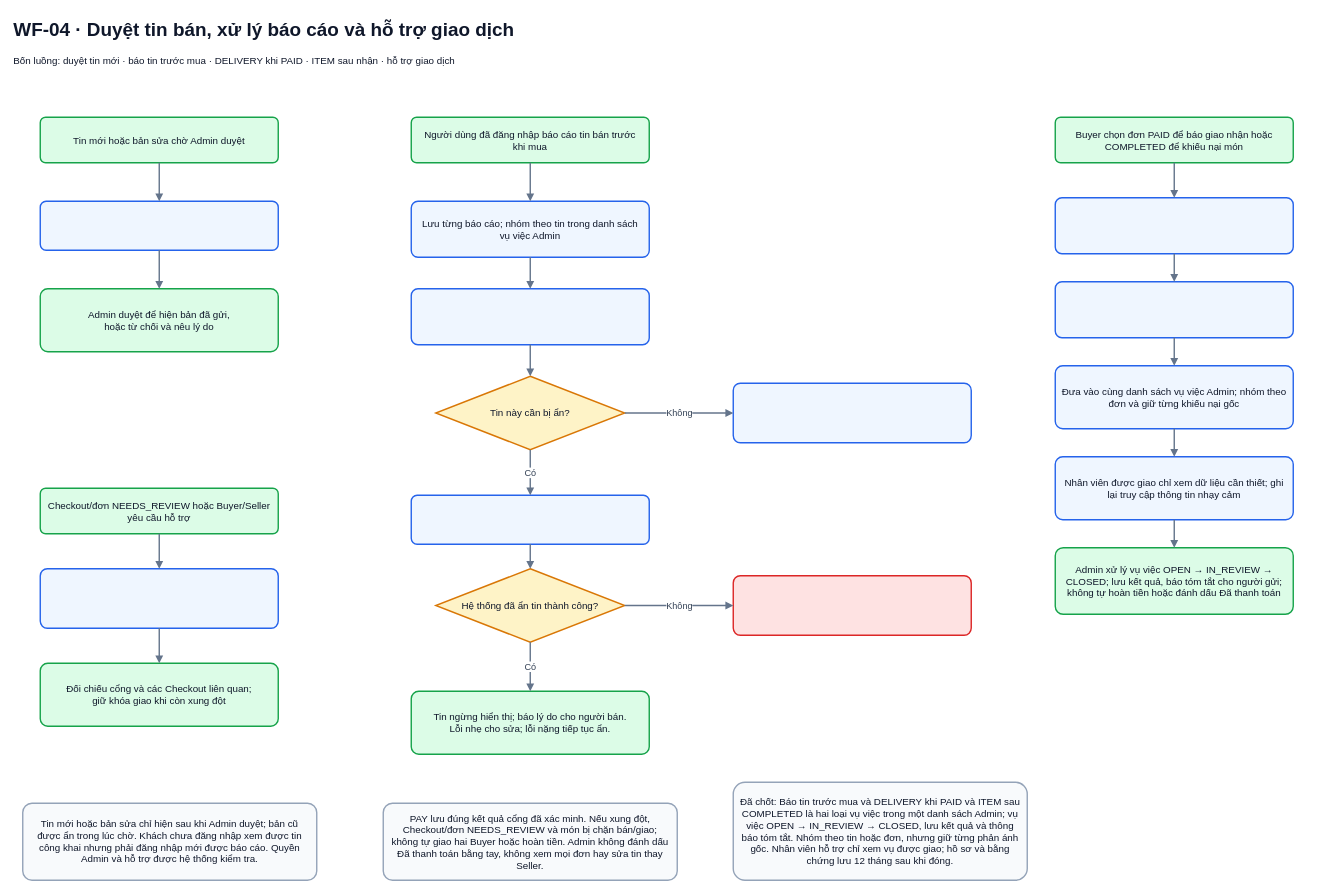
Some shapes in this 1319 by 893 pixel diagram are drawn without their labels. Each missing label, with the box of its shape:
Admin xem tin, lý do và lịch sử rồi quyết định: (410, 288, 650, 345)
Admin xem đúng bản người bán đã gửi: (39, 200, 279, 251)
Admin yêu cầu hệ thống ẩn tin: (410, 494, 650, 545)
Chọn loại/lý do; ITEM chọn món bị ảnh hưởng; gửi bằng chứng: (1054, 197, 1294, 254)
Hệ thống gắn với orderId; ITEM lưu affectedOrderItemIds và snapshot món: (1054, 281, 1294, 338)
Không ẩn tin; các hạn chế khác vẫn có hiệu lực: (732, 382, 972, 443)
Nhân viên hỗ trợ chỉ xem thông tin cần thiết và được cấp quyền: (39, 568, 279, 629)
Nếu ẩn lỗi, báo lại; chưa kết thúc xử lý báo cáo: (732, 575, 972, 636)
